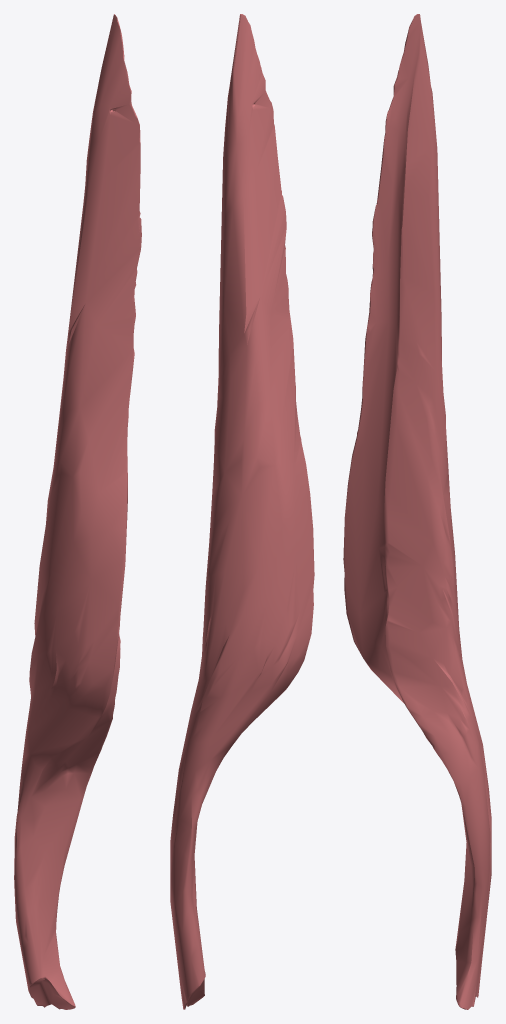
The picture shows the model from 3 angles, left to right: view 1: azimuth 90°, elevation 25°; view 2: azimuth 150°, elevation 25°; view 3: azimuth 330°, elevation 25°; orthographic projection. The views are drawn at different scales.
Visible parts, largest first — view 1: FJ1444M; view 2: FJ1444M; view 3: FJ1444M.
Boxes of the visible parts, box(x1,y1,x2,y2) form: FJ1444M: box(14, 14, 141, 1009); FJ1444M: box(170, 14, 314, 1009); FJ1444M: box(343, 14, 491, 1009).
Size of the model in its own units: 0.0365 by 0.3167 by 0.0364.
